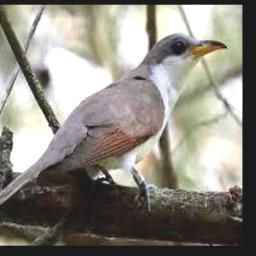Cuckoo: (0, 33, 226, 218)
